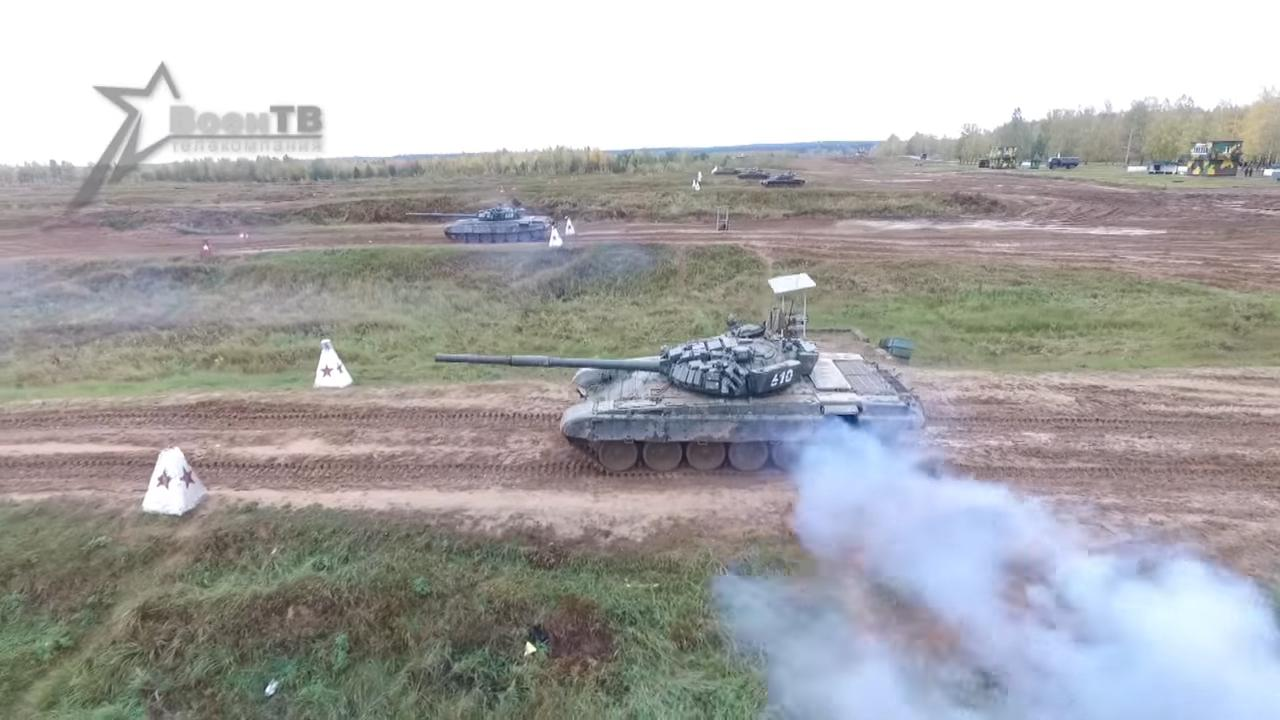tank: (433, 309, 928, 480), (405, 207, 553, 243), (761, 172, 806, 188), (736, 171, 771, 180)
